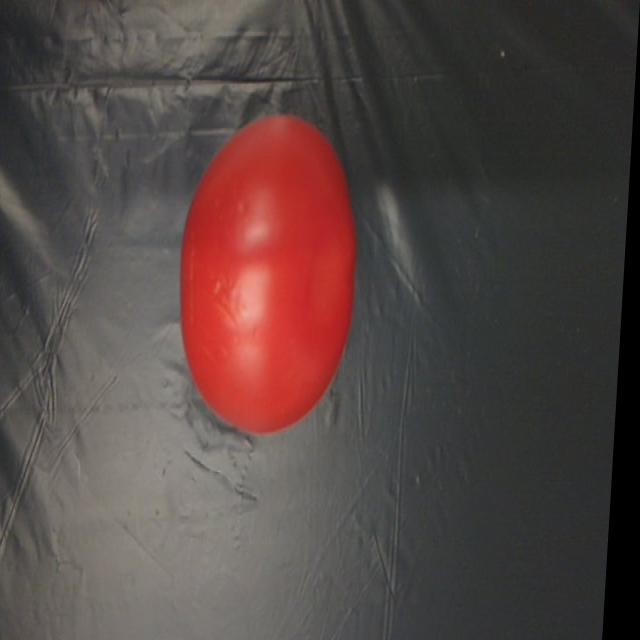kirmizi: (160, 99, 358, 432)
